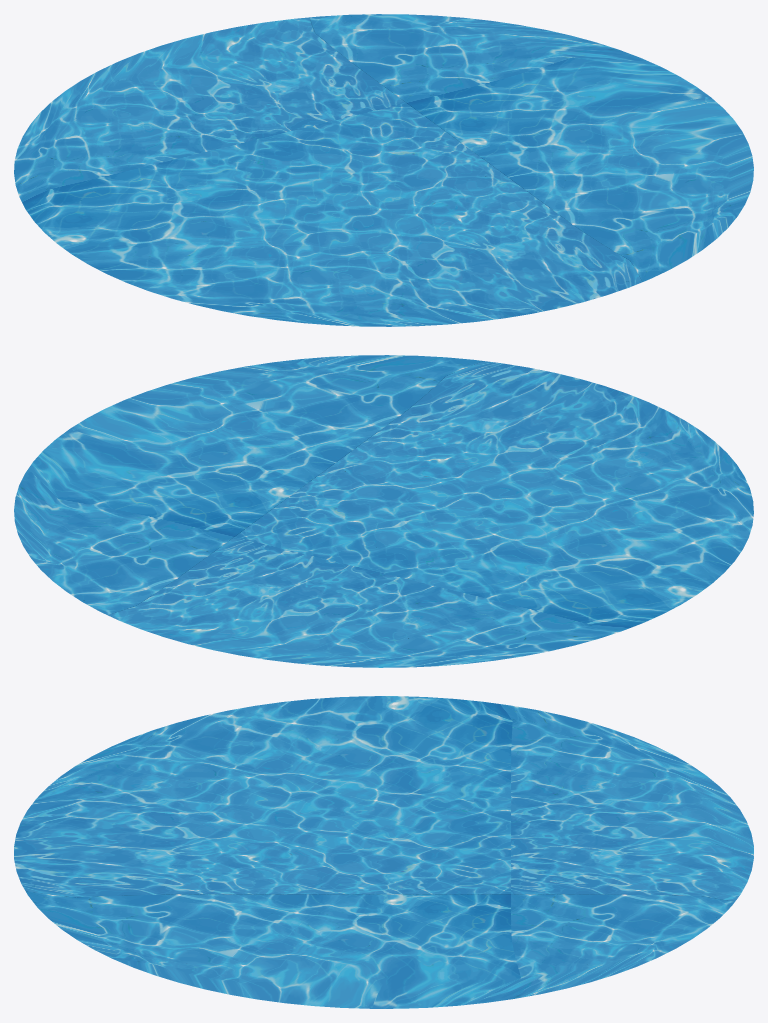
File: aguaBowl.obj
The picture shows the model from 3 angles, top to bottom: view 1: azimuth 30°, elevation 25°; view 2: azimuth 150°, elevation 25°; view 3: azimuth 270°, elevation 25°; orthographic projection.
Visible parts, largest first — view 1: Sea1:pPlane1 group58; view 2: Sea1:pPlane1 group58; view 3: Sea1:pPlane1 group58.
Part boxes in pixels (x1=…): Sea1:pPlane1 group58: x1=14, y1=14, x2=753, y2=326; Sea1:pPlane1 group58: x1=14, y1=355, x2=753, y2=667; Sea1:pPlane1 group58: x1=14, y1=696, x2=753, y2=1008.
Bounding box in the file's own units: 0.3213 × 0 × 0.3213.
Materials: 1 (1 with a texture image).
